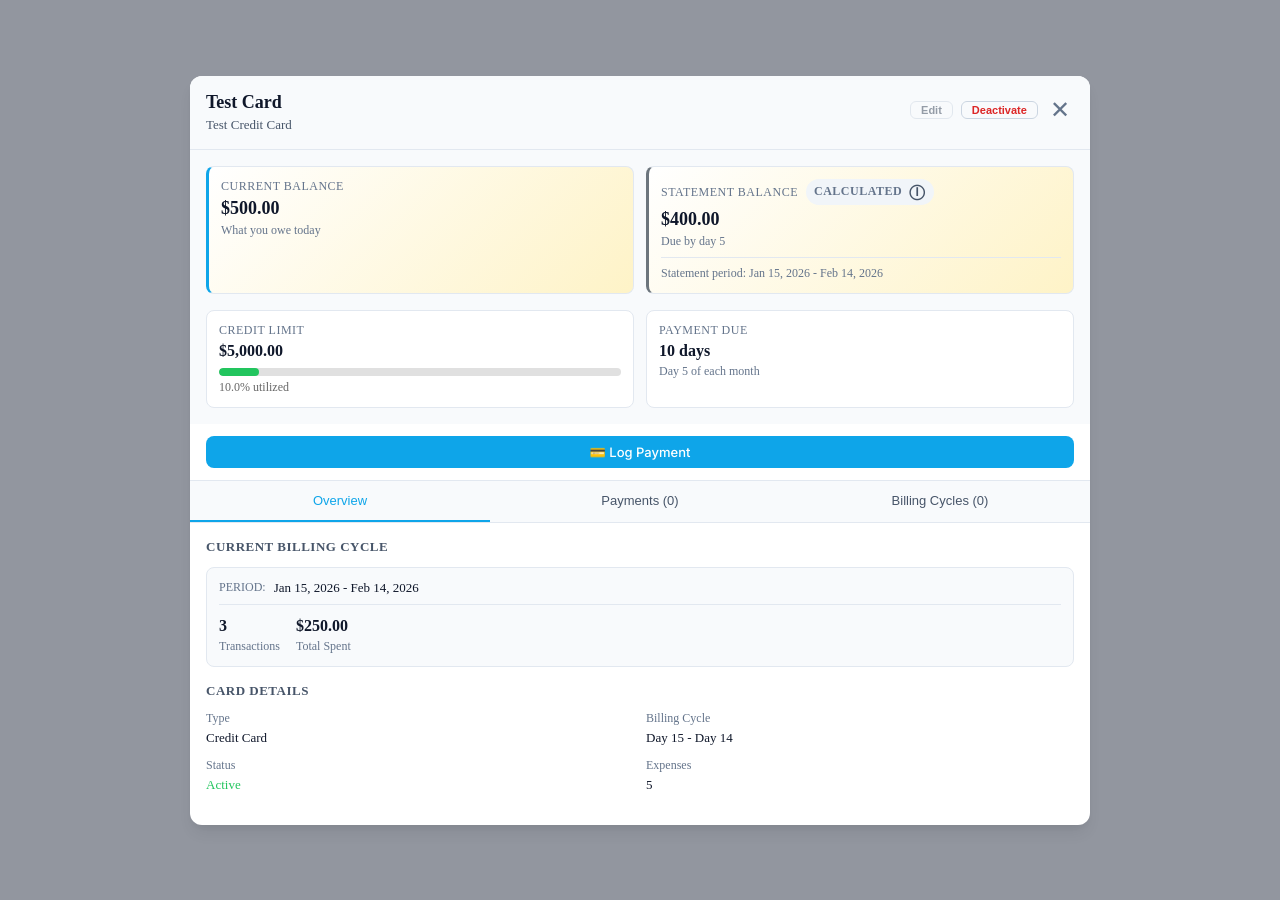
Test case: CreditCardDetailView › Deactivate button functionality (Req 1.5, 1.6) › should show confirmation dialog when Deactivate button is clicked
This screenshot has width=1280, height=900.
Check: the heading "Test Card" is shown, box x1=206 y1=92 x2=292 y2=112
Find and click the Deactivate button
Click the button "Deactivate". click: (999, 110)
box: x1=961 y1=100 x2=1038 y2=118
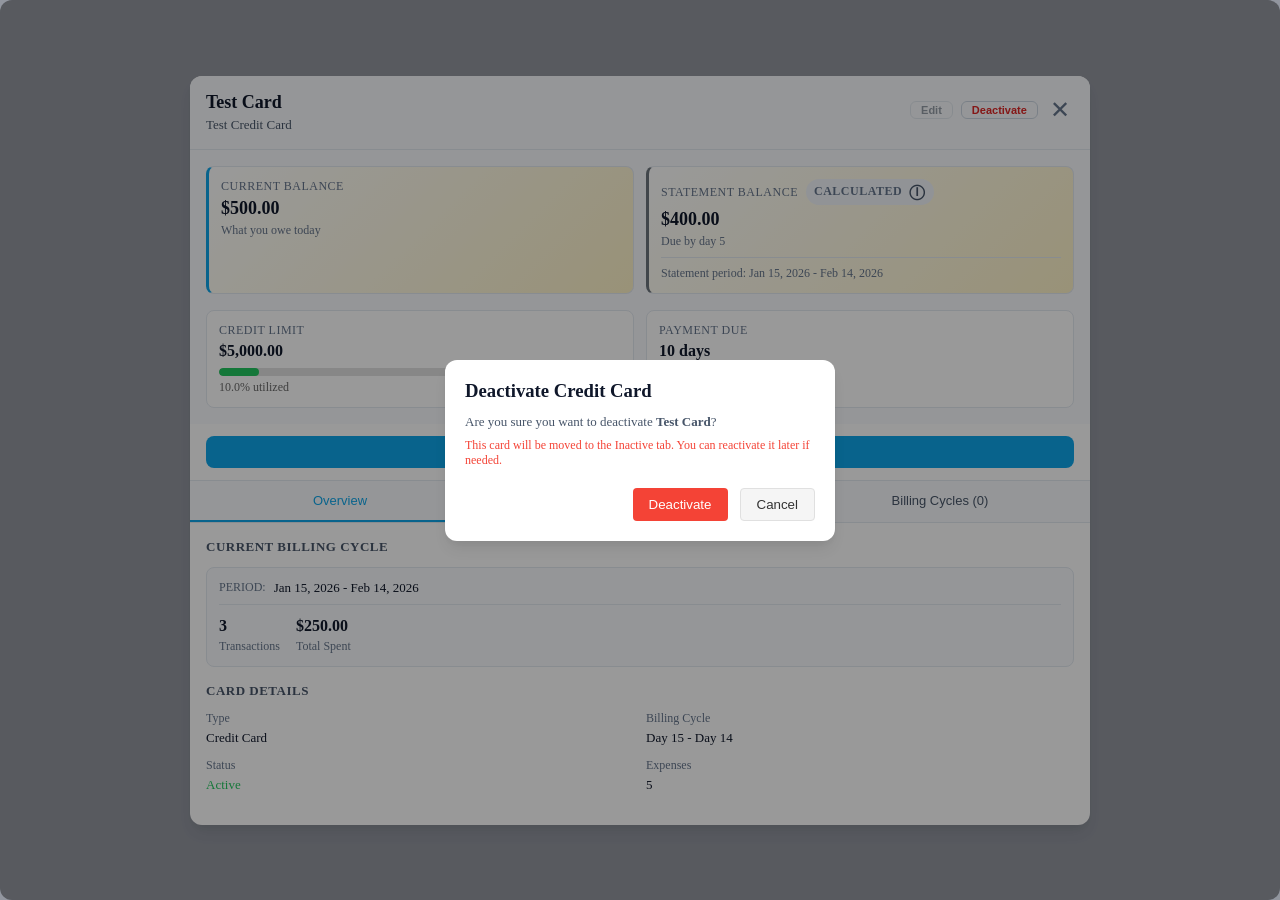
Check: the heading "Deactivate Credit Card" is shown, box x1=465 y1=380 x2=652 y2=400
Check: the text "Are you sure you want to deactivate Test Card?" is shown, box x1=465 y1=414 x2=716 y2=428
